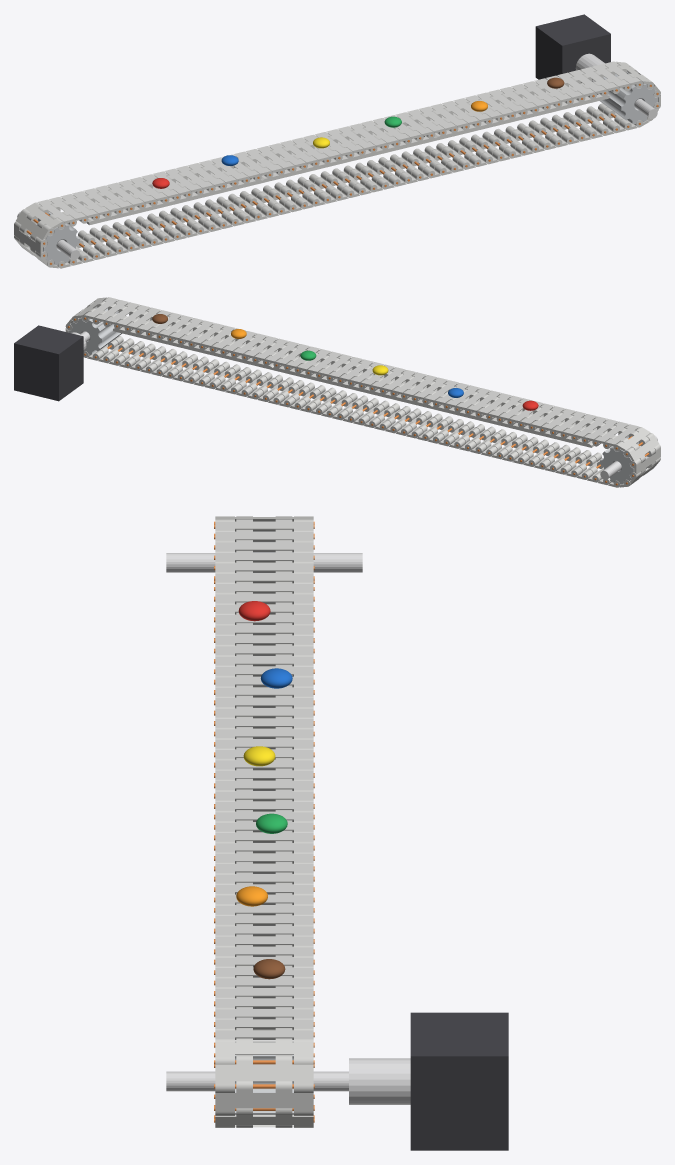
The model's file is banda_ensamblada.glb.
The picture shows the model from 3 angles, top to bottom: view 1: azimuth 30°, elevation 25°; view 2: azimuth 150°, elevation 25°; view 3: azimuth 270°, elevation 25°; orthographic projection. The views are drawn at different scales.
Visible parts, largest first — view 1: Motor NEMA 17, Piñón motriz, Cama_tramo_2, Cama_tramo_1, Cama_tramo_3, Piñón tensor, Eslabon_109, Eslabon_110, Eslabon_108, Eslabon_001, Eslabon_062, Eslabon_079 (+51 smaller); view 2: Motor NEMA 17, Piñón motriz, Cama_tramo_3, Cama_tramo_1, Cama_tramo_2, Piñón tensor, Eslabon_109, Eslabon_110, Eslabon_108, Eslabon_001, Eslabon_082, Eslabon_074 (+84 smaller); view 3: Motor NEMA 17, Acople motor, Eslabon_052, Eslabon_053, Eje tensor, Eje motriz, Eslabon_051, Eslabon_054, Eslabon_050, Eslabon_041, Eslabon_049, Eslabon_018 (+39 smaller).
Boxes of the visible parts, left/top/right/bottom form: Motor NEMA 17: left=535, top=14, right=610, bottom=79; Piñón motriz: left=600, top=72, right=657, bottom=123; Cama_tramo_2: left=245, top=124, right=436, bottom=182; Cama_tramo_1: left=72, top=166, right=262, bottom=225; Cama_tramo_3: left=418, top=82, right=609, bottom=140; Piñón tensor: left=26, top=211, right=80, bottom=264; Eslabon_109: left=16, top=209, right=54, bottom=241; Eslabon_110: left=25, top=202, right=65, bottom=229; Eslabon_108: left=14, top=221, right=47, bottom=254; Eslabon_001: left=37, top=199, right=76, bottom=226; Eslabon_062: left=528, top=120, right=568, bottom=147; Eslabon_079: left=332, top=168, right=371, bottom=195; Motor NEMA 17: left=14, top=325, right=83, bottom=401; Piñón motriz: left=68, top=307, right=121, bottom=354; Cama_tramo_3: left=113, top=316, right=288, bottom=369; Cama_tramo_1: left=432, top=396, right=607, bottom=447; Cama_tramo_2: left=272, top=355, right=447, bottom=408; Piñón tensor: left=600, top=435, right=649, bottom=484; Eslabon_109: left=624, top=433, right=659, bottom=462; Eslabon_110: left=613, top=427, right=650, bottom=451; Eslabon_108: left=630, top=444, right=660, bottom=474; Eslabon_001: left=603, top=424, right=639, bottom=448; Eslabon_082: left=363, top=403, right=399, bottom=427; Eslabon_074: left=279, top=382, right=314, bottom=407; Motor NEMA 17: left=410, top=1012, right=508, bottom=1150; Acople motor: left=349, top=1058, right=410, bottom=1104; Eslabon_052: left=215, top=1055, right=313, bottom=1092; Eslabon_053: left=215, top=1081, right=313, bottom=1115; Eje tensor: left=166, top=553, right=362, bottom=572; Eje motriz: left=166, top=1071, right=348, bottom=1091; Eslabon_051: left=215, top=1038, right=313, bottom=1064; Eslabon_054: left=215, top=1108, right=313, bottom=1127; Eslabon_050: left=215, top=1028, right=313, bottom=1042; Eslabon_041: left=215, top=934, right=313, bottom=947; Eslabon_049: left=215, top=1017, right=313, bottom=1030; Eslabon_018: left=215, top=695, right=313, bottom=708.
Size of what is drawn, in the model's own units: 0.5395 by 0.0471 by 0.1395.
